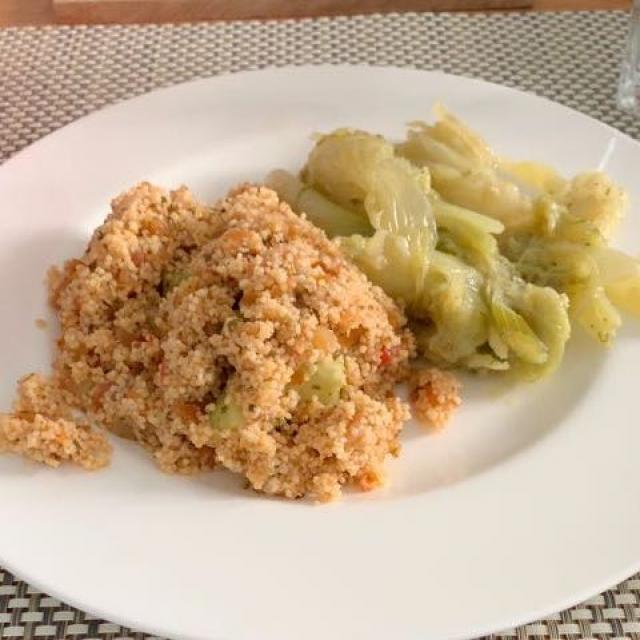cake: (299, 122, 615, 373)
taboule-prepared-with-couscous: (34, 182, 441, 496)
